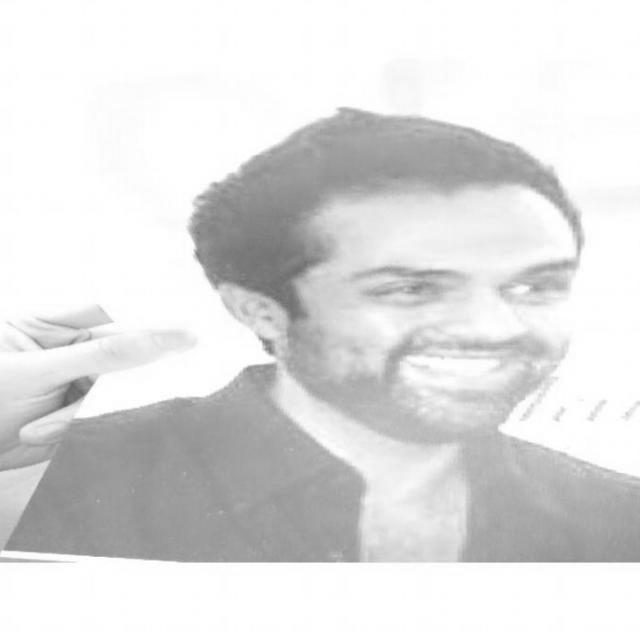fake: (1, 58, 640, 562)
